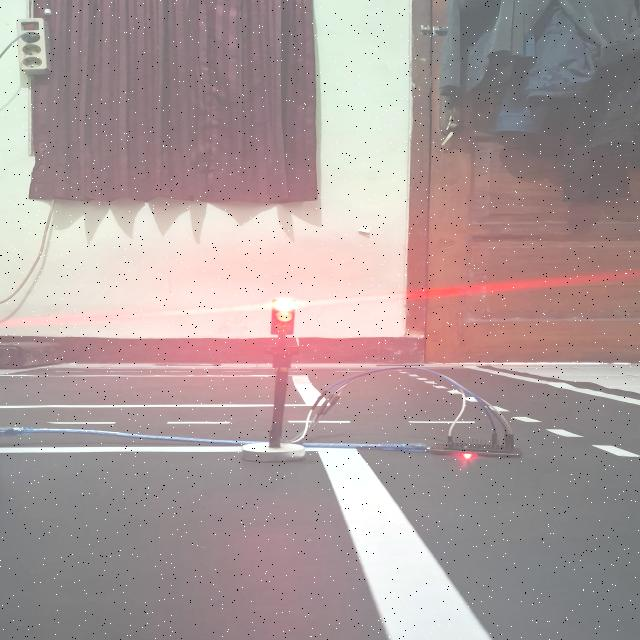Lampu Merah: (269, 298, 296, 336)
